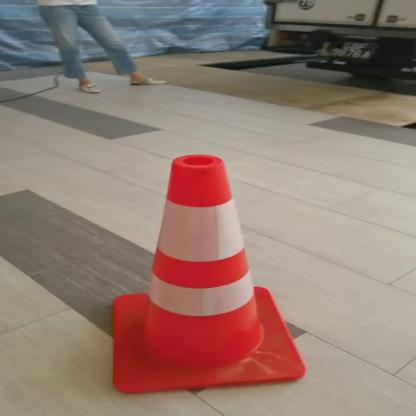cone: (59, 144, 329, 402)
